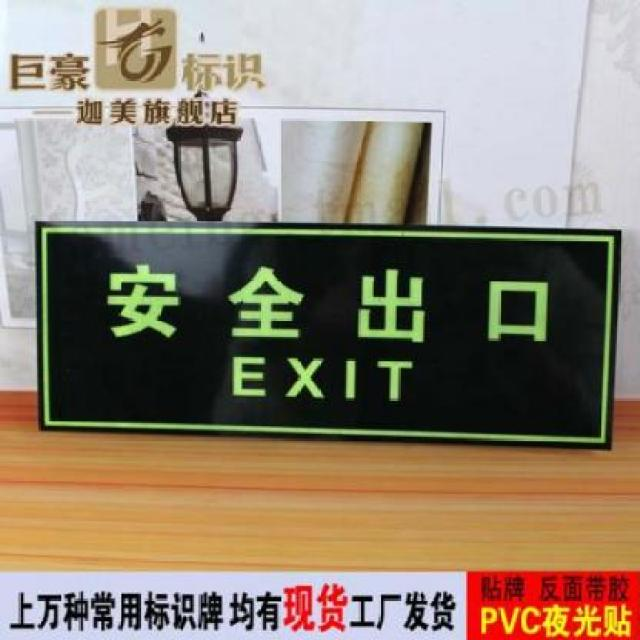exit_sign: (37, 222, 605, 443)
